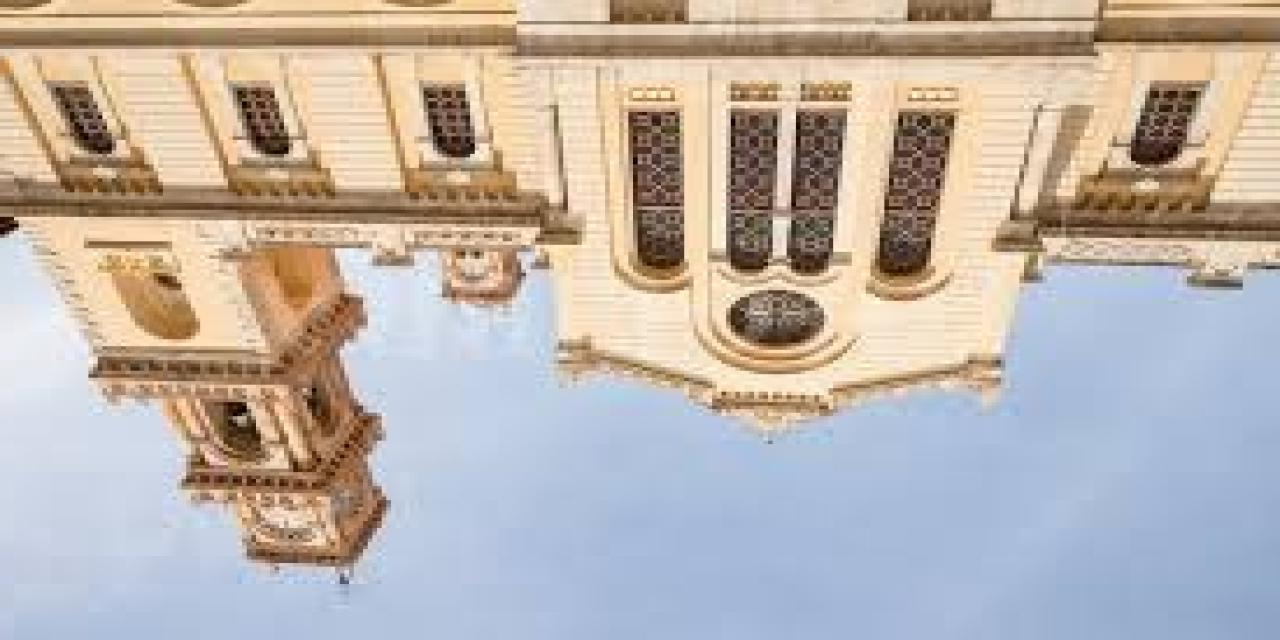Agios Minas: (2, 1, 1279, 596)
